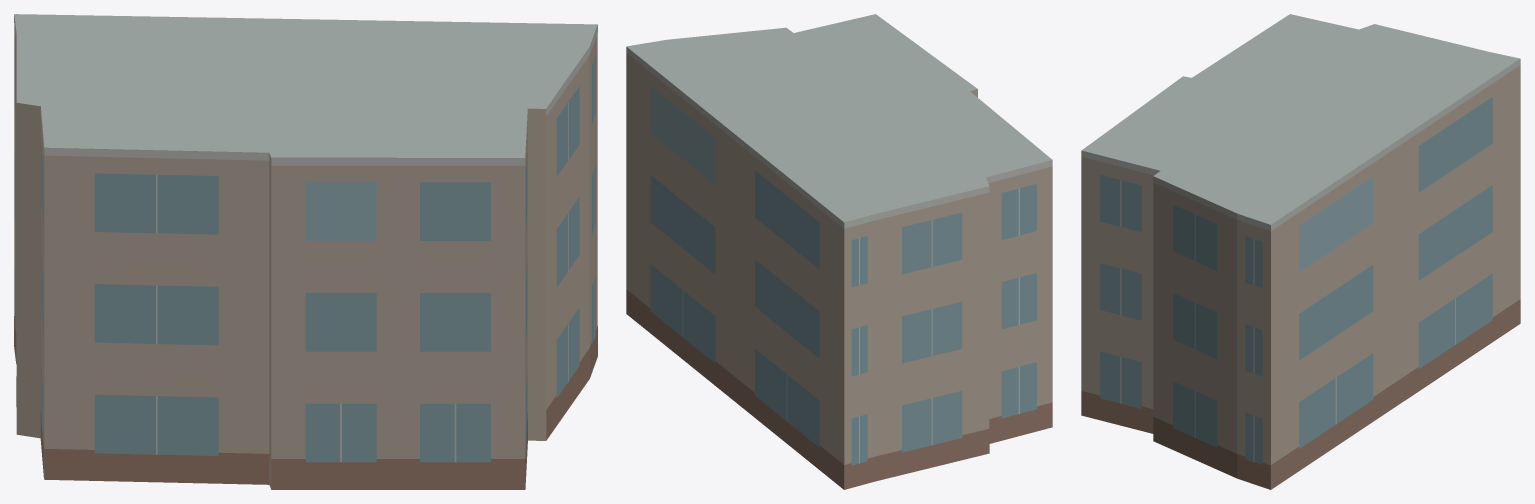
The model's file is survey-upis-32626594.glb.
3 views of the same model, side by side, from view 1: azimuth 30°, elevation 25°; view 2: azimuth 150°, elevation 25°; view 3: azimuth 270°, elevation 25° (orthographic). The views are drawn at different scales.
Visible parts, largest first — view 1: survey-upis-32626594.tmp; view 2: survey-upis-32626594.tmp; view 3: survey-upis-32626594.tmp.
Part boxes in pixels (box(x1,y1,x2,y2)): survey-upis-32626594.tmp: box(14, 14, 597, 489); survey-upis-32626594.tmp: box(626, 14, 1052, 489); survey-upis-32626594.tmp: box(1081, 14, 1520, 489).
Bounding box in the file's own units: 17.42 × 10.2 × 15.33.
